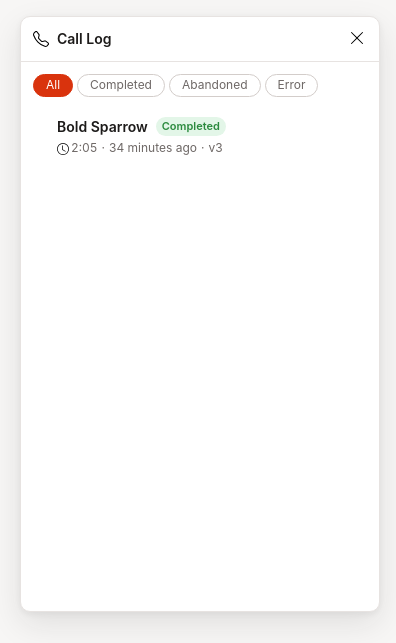
CallLogPane › disables the fix button while the copilot is busy
The image size is (396, 643).
Click the button "Bold Sparrow Completed 2:05 · 34 minutes ago · v3". click: point(200, 137)
box: [33,109,367,165]
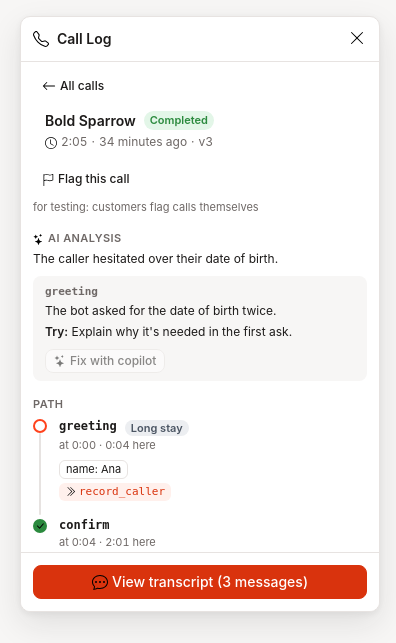
Expected: the button "Fix with copilot" is disabled, [45,348,165,373]
